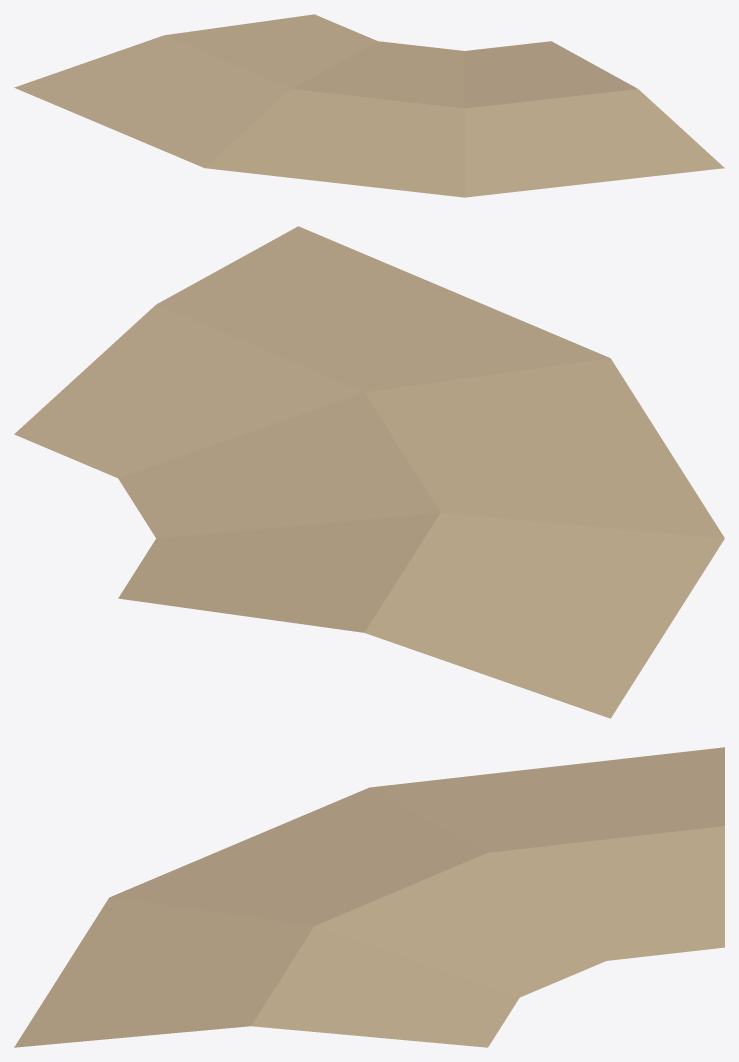
The model's file is Shared_Terrain_Dirt_Gathered_Corner.glb.
The picture shows the model from 3 angles, top to bottom: view 1: azimuth 30°, elevation 25°; view 2: azimuth 150°, elevation 25°; view 3: azimuth 270°, elevation 25°; orthographic projection. The views are drawn at different scales.
Visible parts, largest first — view 1: Shared_Terrain_Dirt_Gathered_Corner; view 2: Shared_Terrain_Dirt_Gathered_Corner; view 3: Shared_Terrain_Dirt_Gathered_Corner.
Part boxes in pixels (bbox=[...]): Shared_Terrain_Dirt_Gathered_Corner: bbox=[14, 14, 724, 197]; Shared_Terrain_Dirt_Gathered_Corner: bbox=[14, 226, 724, 718]; Shared_Terrain_Dirt_Gathered_Corner: bbox=[14, 747, 724, 1047].
Size of the model in its own units: 1.5 by 0.05 by 1.5.
